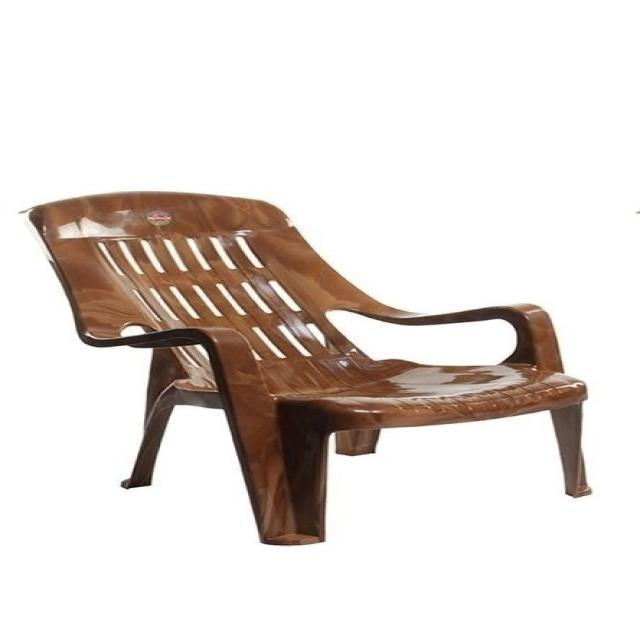chair: (18, 190, 616, 548)
